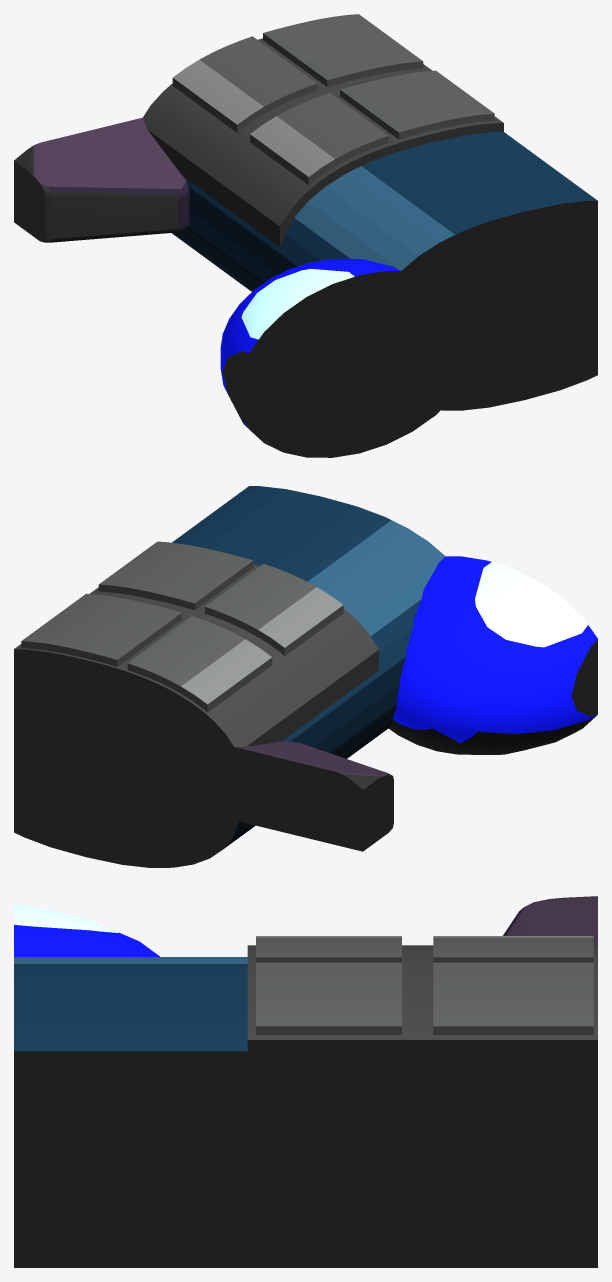
The model's file is camanis_boss_41.glb.
The picture shows the model from 3 angles, top to bottom: view 1: azimuth 30°, elevation 25°; view 2: azimuth 150°, elevation 25°; view 3: azimuth 270°, elevation 25°; orthographic projection. The views are drawn at different scales.
Parts seen in each view (by area): view 1: camanis_boss_41; view 2: camanis_boss_41; view 3: camanis_boss_41.
Boxes of the visible parts, box(x1,y1,x2,y2) form: camanis_boss_41: box(14, 14, 597, 457); camanis_boss_41: box(14, 486, 597, 867); camanis_boss_41: box(14, 896, 597, 1267).
Size of the model in its own units: 24 by 14.26 by 28.
